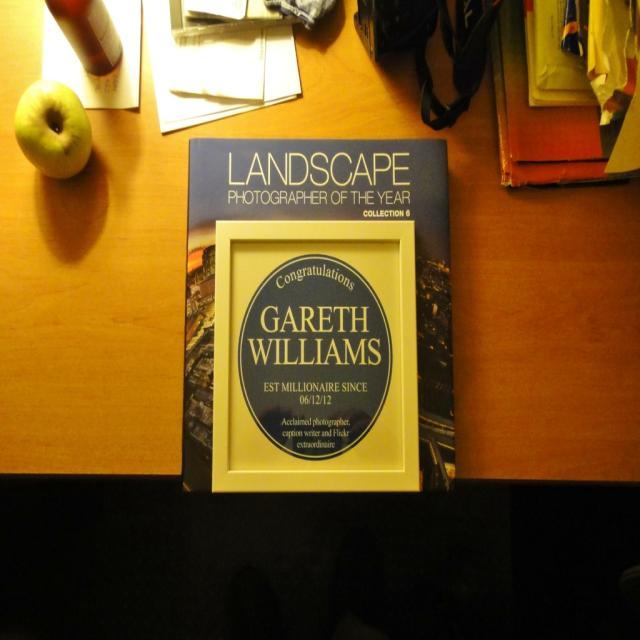Healty Apple: (9, 72, 98, 180)
